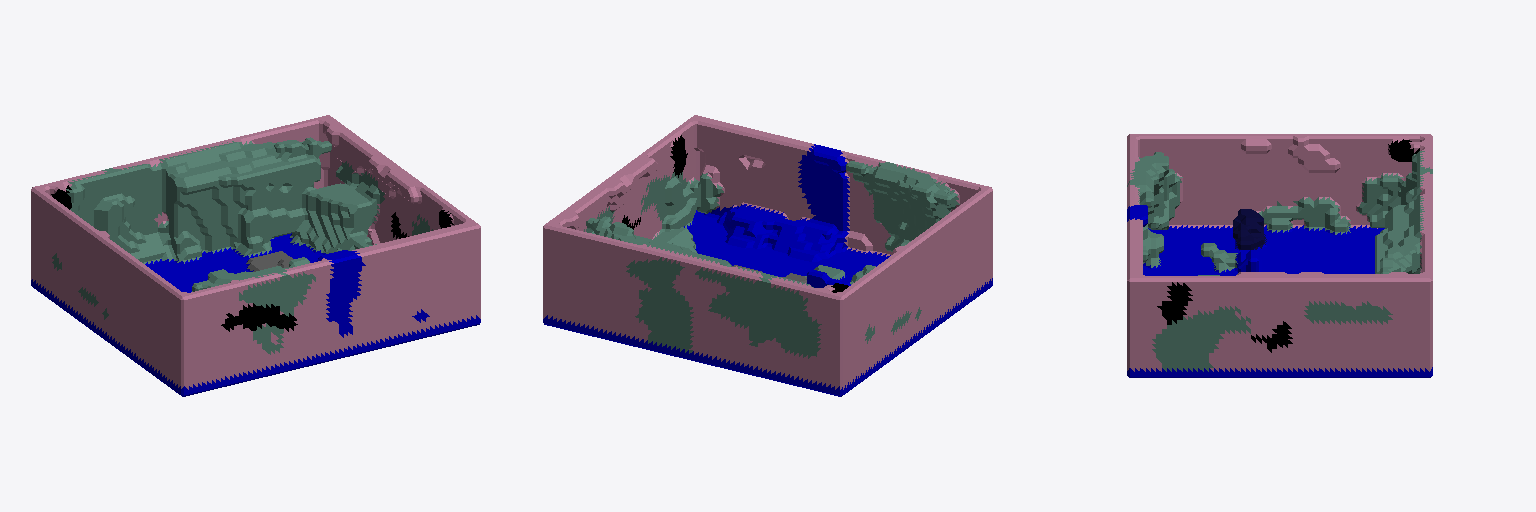
3 renders of one model, left to right at view 1: azimuth 30°, elevation 25°; view 2: azimuth 150°, elevation 25°; view 3: azimuth 270°, elevation 25°, orthographic.
Parts seen in each view (by area): view 1: Input_prediction_mesh; view 2: Input_prediction_mesh; view 3: Input_prediction_mesh.
Part boxes in pixels (left/top/right/bottom): Input_prediction_mesh: left=31, top=115, right=480, bottom=396; Input_prediction_mesh: left=543, top=115, right=992, bottom=396; Input_prediction_mesh: left=1127, top=134, right=1432, bottom=377.
Size of the model in its own units: 5.28 by 1.68 by 4.64.